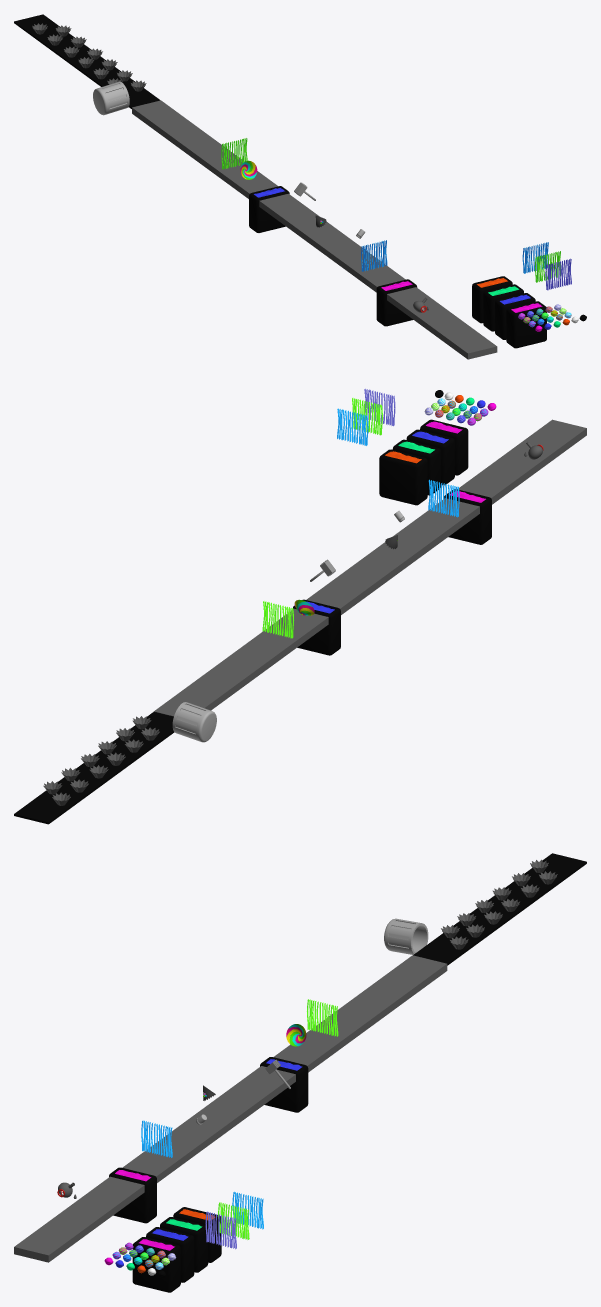
File: trace.fbx
3 renders of one model, top to bottom at view 1: azimuth 30°, elevation 25°; view 2: azimuth 150°, elevation 25°; view 3: azimuth 330°, elevation 25°, orthographic. The views are drawn at different scales.
Parts seen in each view (by area): view 1: Cube.002, Cube.007, Cube, Cube.012, Plane.032, Plane, Plane.016, Cylinder.003, Plane.034, Plane.035, Plane.033, Plane.080 (+4 smaller); view 2: Cube.002, Cube.007, Cube, Cube.012, Plane.035, Plane, Cylinder.003, Plane.016, Plane.033, Plane.032, Plane.034, Plane.017 (+4 smaller); view 3: Cube.007, Cube.002, Cube, Cube.012, Plane.032, Plane, Plane.016, Cylinder.003, Plane.034, Plane.033, Plane.035, Plane.017 (+4 smaller).
Part boxes in pixels (left/top/right/bottom): Cube.002: left=259, top=193, right=405, bottom=292; Cube.007: left=132, top=100, right=277, bottom=198; Cube: left=387, top=287, right=497, bottom=359; Cube.012: left=14, top=14, right=160, bottom=108; Plane.032: left=506, top=301, right=546, bottom=348; Plane: left=376, top=279, right=417, bottom=326; Plane.016: left=249, top=186, right=289, bottom=232; Cylinder.003: left=93, top=81, right=129, bottom=115; Plane.034: left=483, top=284, right=523, bottom=331; Plane.035: left=472, top=276, right=512, bottom=323; Plane.033: left=495, top=293, right=535, bottom=339; Plane.080: left=545, top=258, right=571, bottom=290; Cube.002: left=306, top=498, right=479, bottom=614; Cube.007: left=154, top=608, right=328, bottom=716; Cube: left=459, top=419, right=586, bottom=504; Cube.012: left=14, top=712, right=174, bottom=824; Plane.035: left=379, top=449, right=427, bottom=505; Plane: left=444, top=489, right=491, bottom=544; Cylinder.003: left=172, top=702, right=216, bottom=742; Plane.016: left=293, top=599, right=340, bottom=655; Plane.033: left=406, top=429, right=454, bottom=485; Plane.032: left=420, top=419, right=468, bottom=475; Plane.034: left=392, top=439, right=440, bottom=495; Plane.017: left=262, top=601, right=293, bottom=638; Cube.007: left=273, top=955, right=447, bottom=1072; Cube.002: left=122, top=1066, right=295, bottom=1182; Cube: left=14, top=1176, right=144, bottom=1262; Cube.012: left=413, top=853, right=586, bottom=965; Plane.032: left=132, top=1237, right=180, bottom=1292; Plane: left=109, top=1167, right=156, bottom=1223; Plane.016: left=260, top=1057, right=308, bottom=1112; Cylinder.003: left=384, top=918, right=428, bottom=954; Plane.034: left=160, top=1217, right=208, bottom=1272; Plane.033: left=146, top=1227, right=194, bottom=1282; Plane.035: left=173, top=1207, right=221, bottom=1262; Plane.017: left=307, top=999, right=338, bottom=1036.
Bounding box in the file's own units: 273 × 93.86 × 1251.
